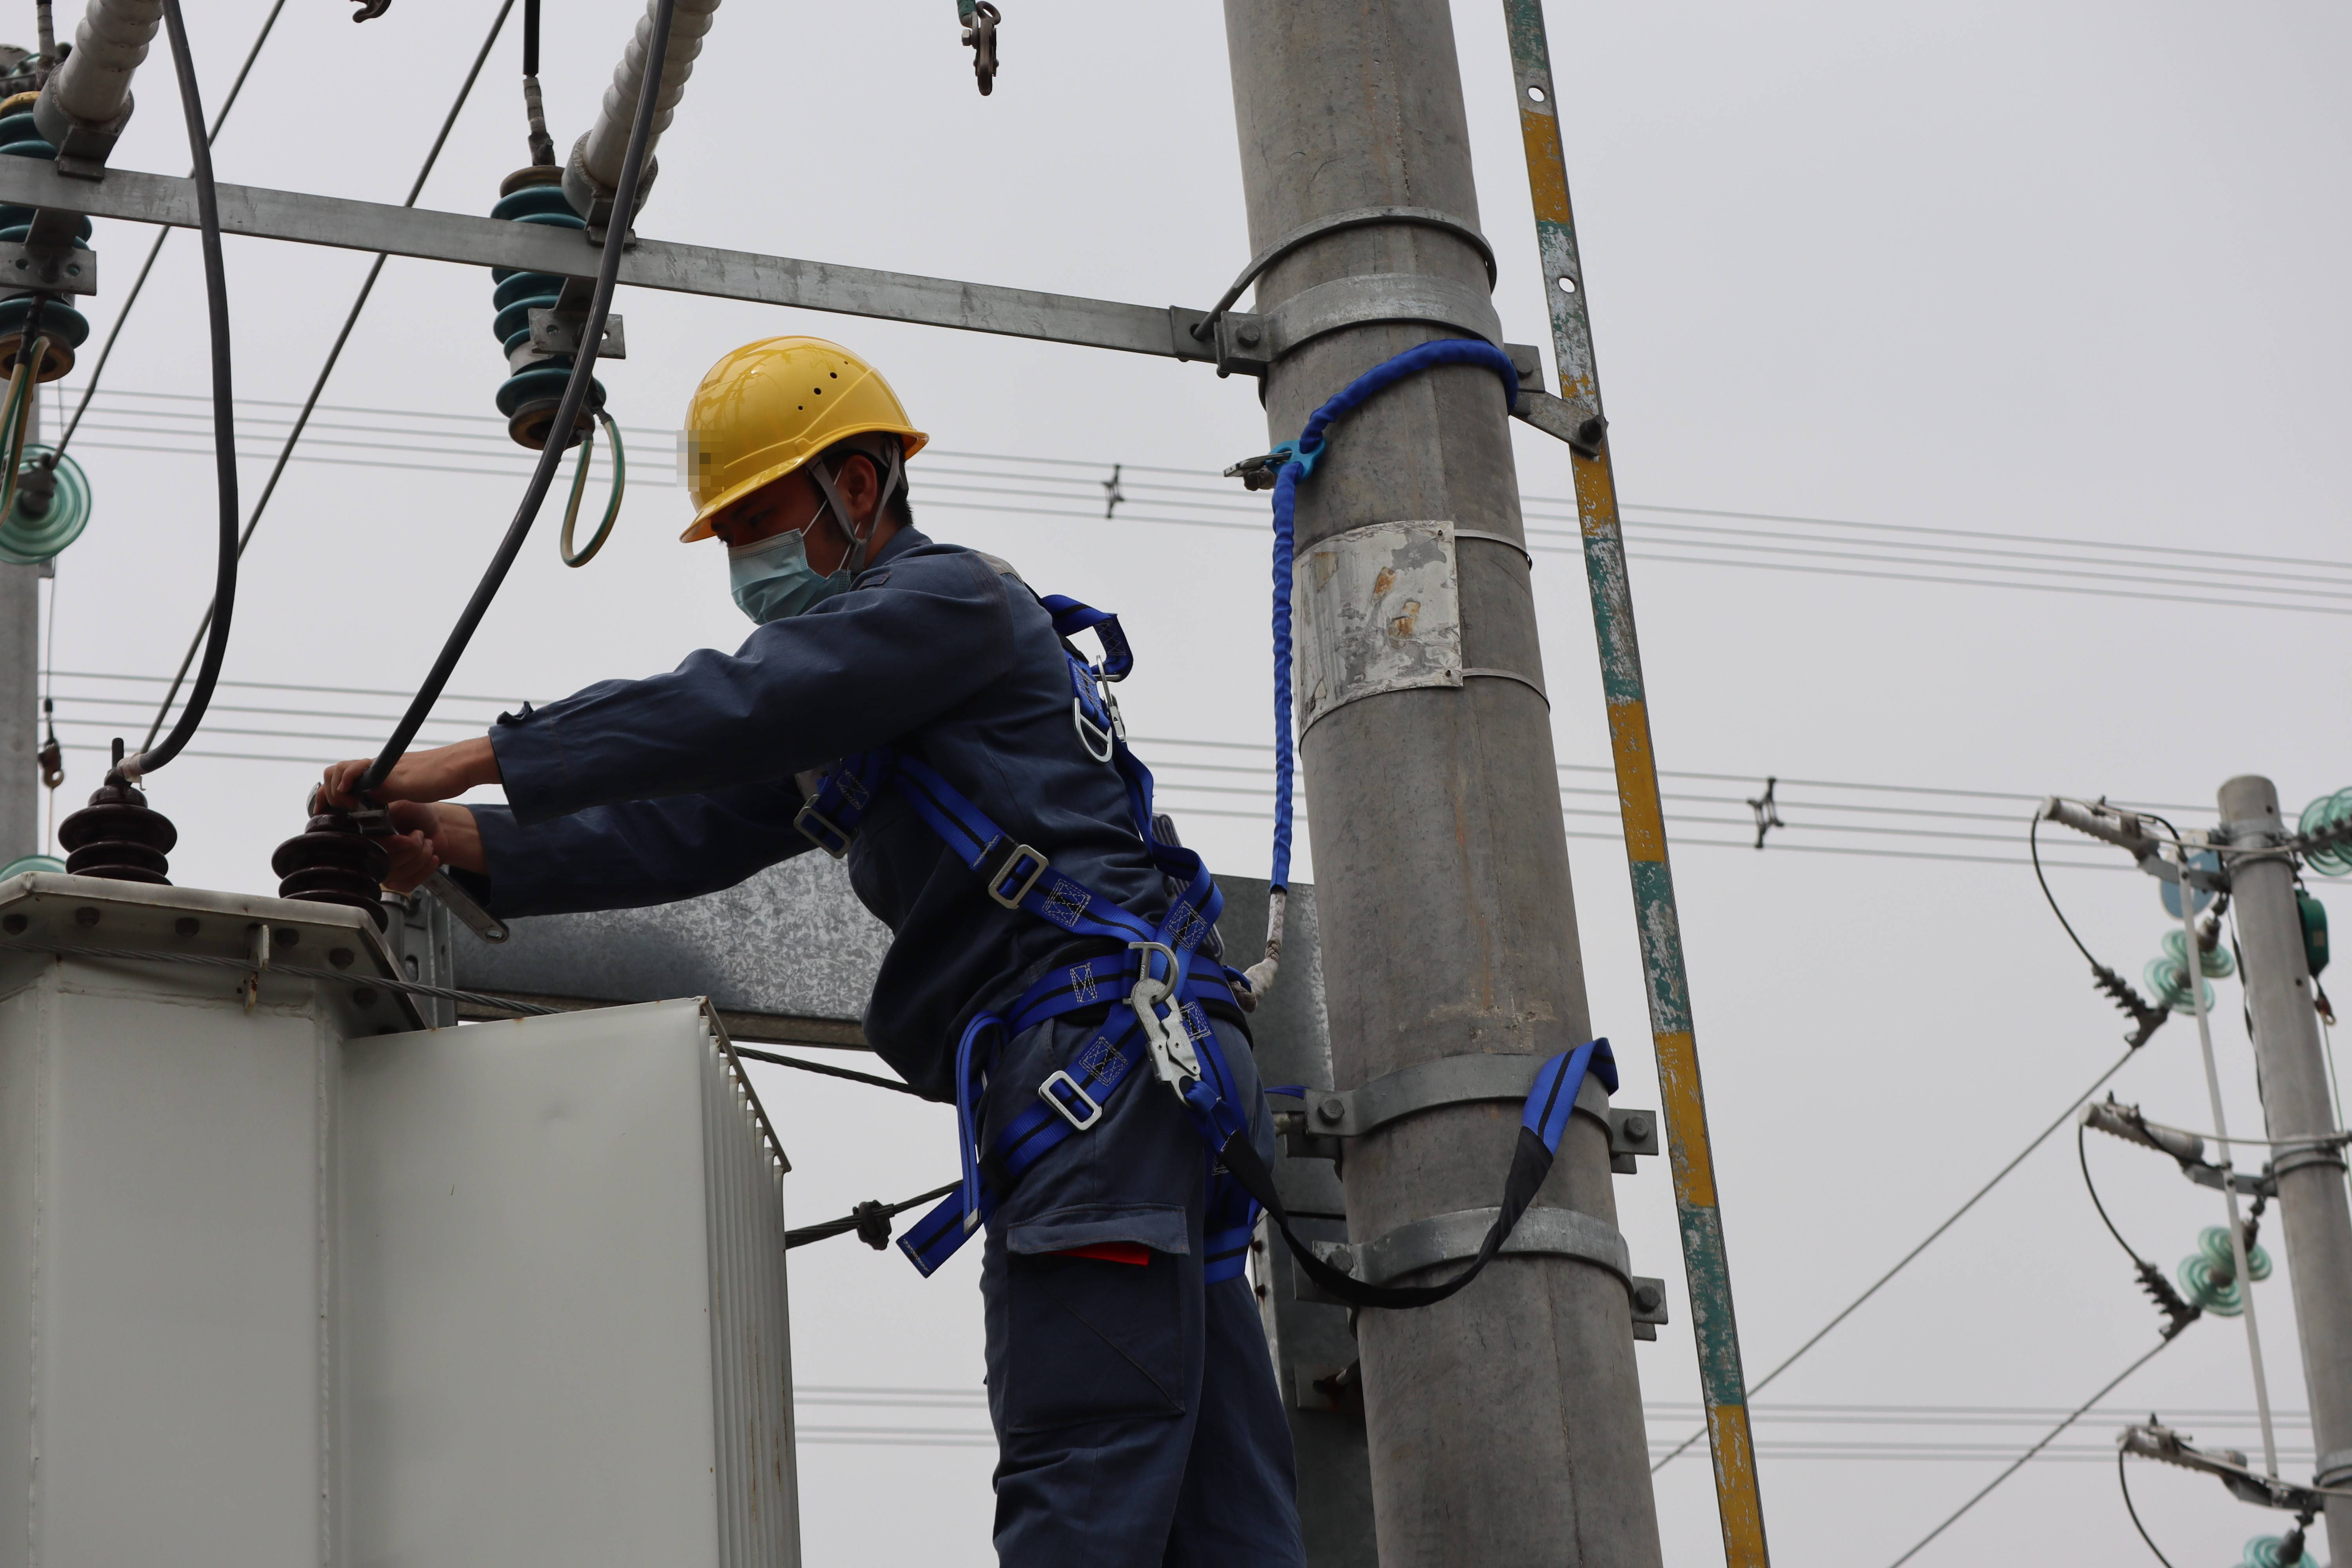downsuit: (941, 976, 1312, 1542)
upsuit: (471, 536, 1225, 941)
